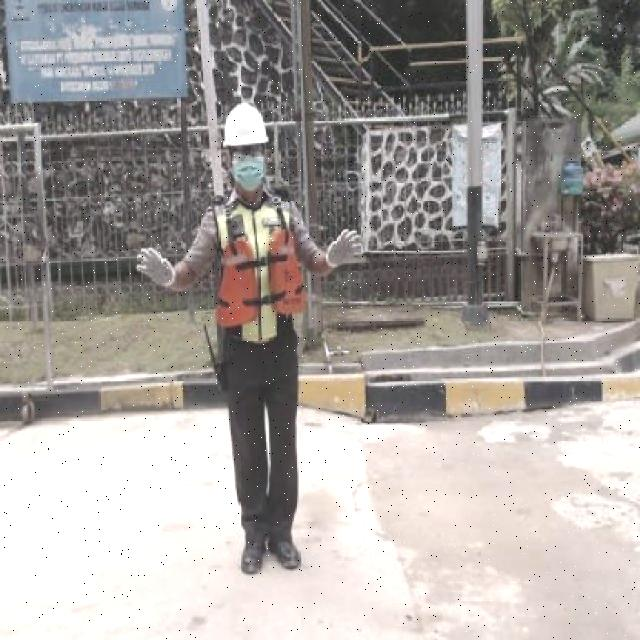Boots: (266, 538, 302, 574), (236, 540, 267, 578)
Gloves: (134, 244, 178, 290), (327, 227, 362, 275)
Helmet: (220, 101, 268, 145)
Mask: (215, 226, 308, 329)
